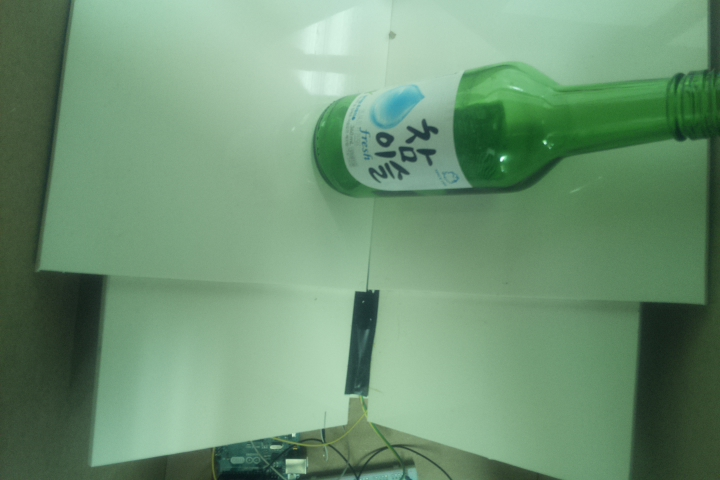soju: (310, 62, 720, 201)
